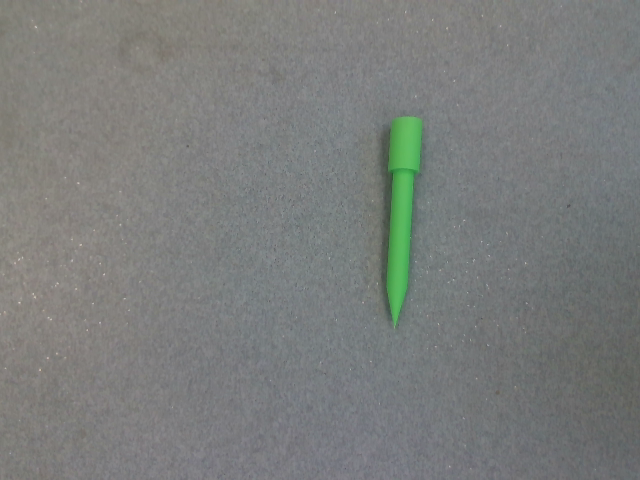Probe: (380, 111, 429, 338)
